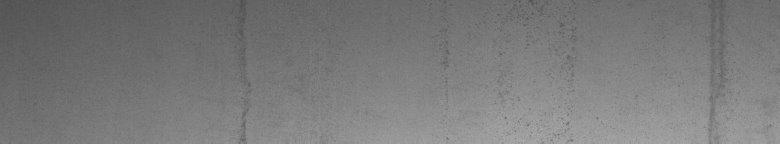ib: (439, 5, 573, 132)
